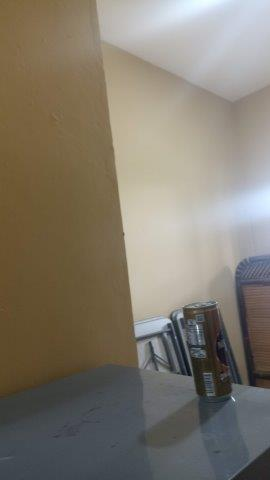kaleng: (186, 303, 233, 400)
